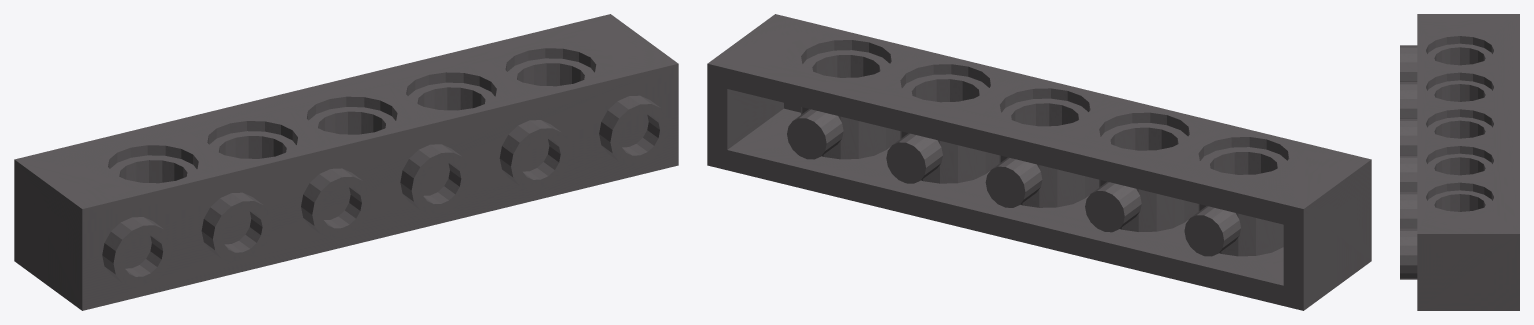
The model's file is brick_1x6.dae.
The picture shows the model from 3 angles, left to right: view 1: azimuth 30°, elevation 25°; view 2: azimuth 150°, elevation 25°; view 3: azimuth 270°, elevation 25°; orthographic projection. The views are drawn at different scales.
Visible parts, largest first — view 1: node; view 2: node; view 3: node.
Part boxes in pixels (left/top/right/bottom): node: left=14, top=14, right=678, bottom=310; node: left=707, top=14, right=1371, bottom=310; node: left=1400, top=14, right=1519, bottom=310.
Size of the model in its own units: 120 by 19.5 by 27.5.
Materials: 1 (1 with a texture image).
